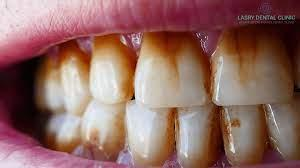Calculus: (207, 20, 295, 109), (132, 18, 216, 108), (123, 97, 181, 168), (82, 31, 141, 96), (217, 96, 269, 166), (171, 97, 222, 168), (80, 99, 126, 162), (56, 44, 93, 106), (49, 109, 91, 153)
